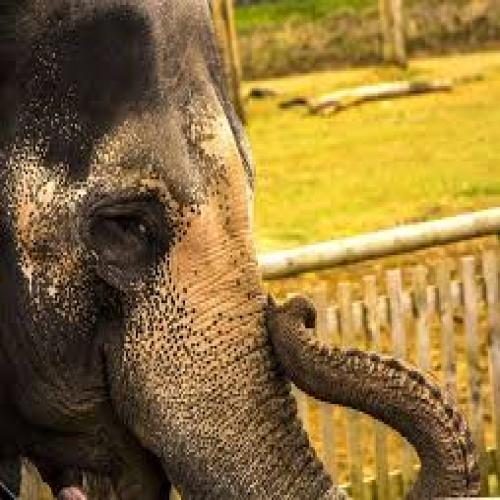asian_elephant-endangered: (0, 0, 474, 500)
